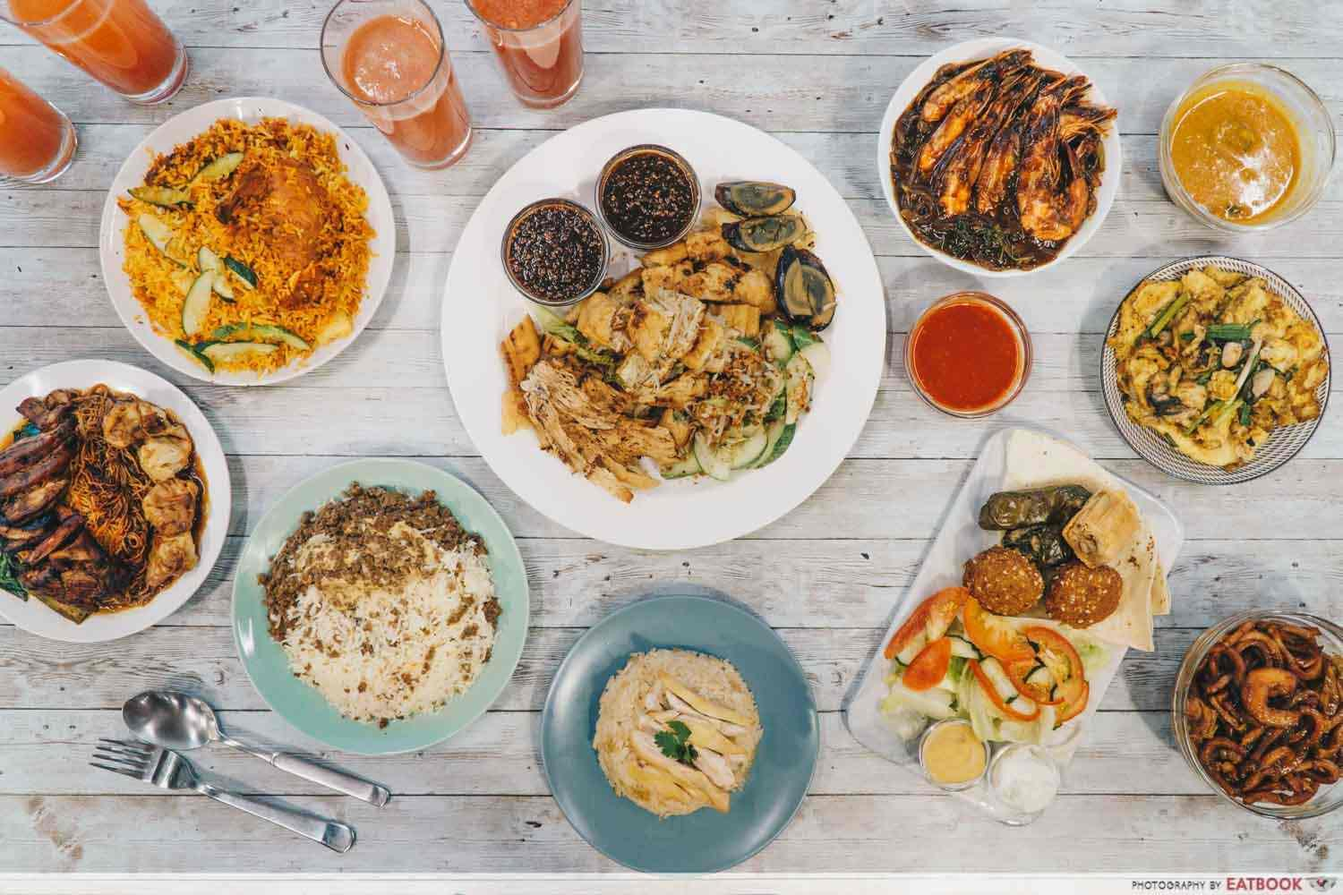Braised Crucian Carp: (437, 102, 888, 549), (843, 426, 1178, 807), (231, 460, 526, 751), (101, 97, 397, 385), (536, 594, 817, 874), (2, 358, 235, 641), (877, 36, 1116, 284), (1098, 258, 1327, 482)
